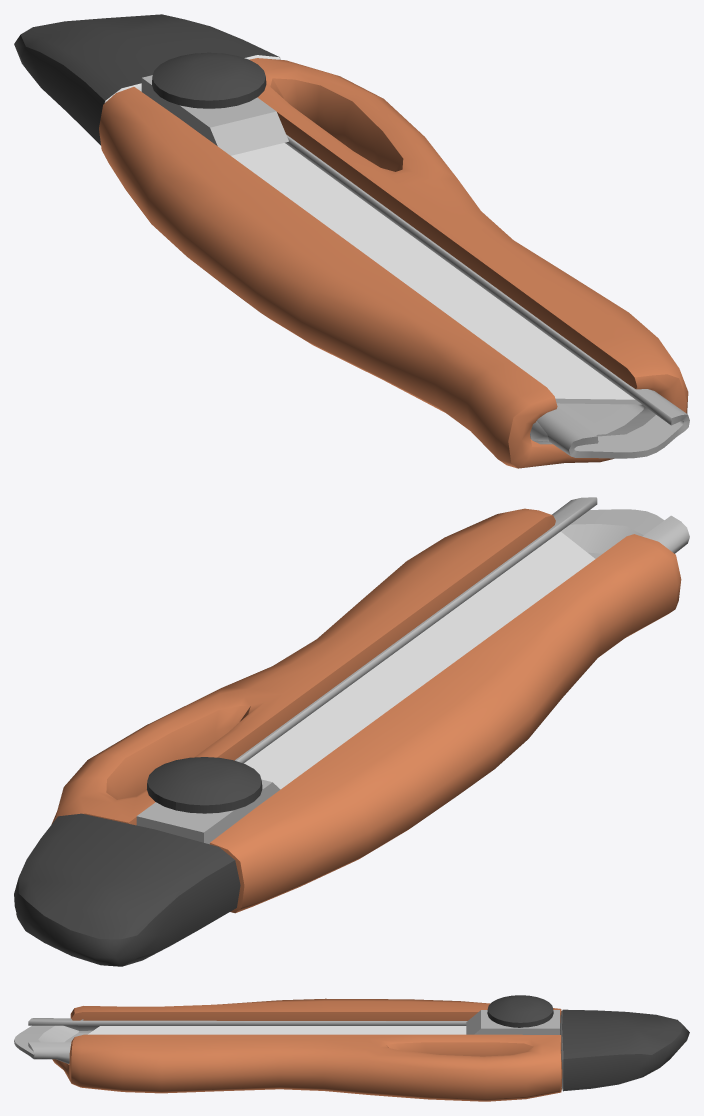
File: 커터칼.fbx
3 renders of one model, top to bottom at view 1: azimuth 30°, elevation 25°; view 2: azimuth 150°, elevation 25°; view 3: azimuth 270°, elevation 25°, orthographic. The views are drawn at different scales.
Visible parts, largest first — view 1: knife; view 2: knife; view 3: knife.
Part boxes in pixels (x1=…): knife: x1=14, y1=14, x2=689, y2=468; knife: x1=14, y1=497, x2=689, y2=966; knife: x1=14, y1=995, x2=689, y2=1101.
Size of the model in its own units: 367 by 132 by 1361.
